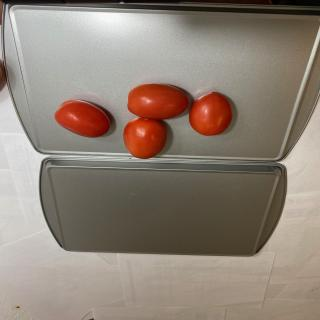Tomato: (127, 83, 189, 120), (54, 99, 110, 138), (188, 91, 232, 136), (123, 118, 167, 160)
